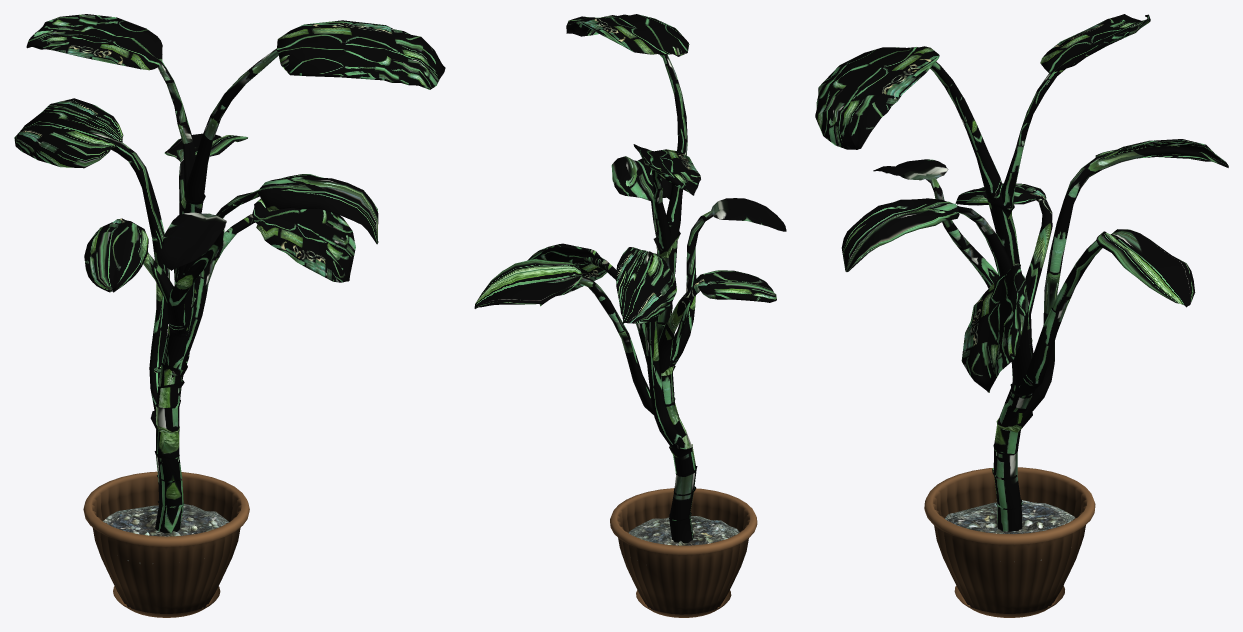
Rendered from plant.dae.
3 renders of one model, left to right at view 1: azimuth 30°, elevation 25°; view 2: azimuth 150°, elevation 25°; view 3: azimuth 270°, elevation 25°, orthographic. The views are drawn at different scales.
Visible parts, largest first — view 1: Plant, Flowerpot, Terrain; view 2: Plant, Flowerpot, Terrain; view 3: Plant, Flowerpot, Terrain.
Boxes of the visible parts, <box> form: Plant: <box>14,14,445,533</box>; Flowerpot: <box>83,471,249,617</box>; Terrain: <box>103,504,229,563</box>; Plant: <box>474,14,786,543</box>; Flowerpot: <box>610,488,757,617</box>; Terrain: <box>628,516,739,545</box>; Plant: <box>815,14,1228,531</box>; Flowerpot: <box>924,467,1095,617</box>; Terrain: <box>945,500,1075,561</box>.
Size of the model in its own units: 0.7227 by 0.8571 by 1.36.
3 materials, 2 textured.
